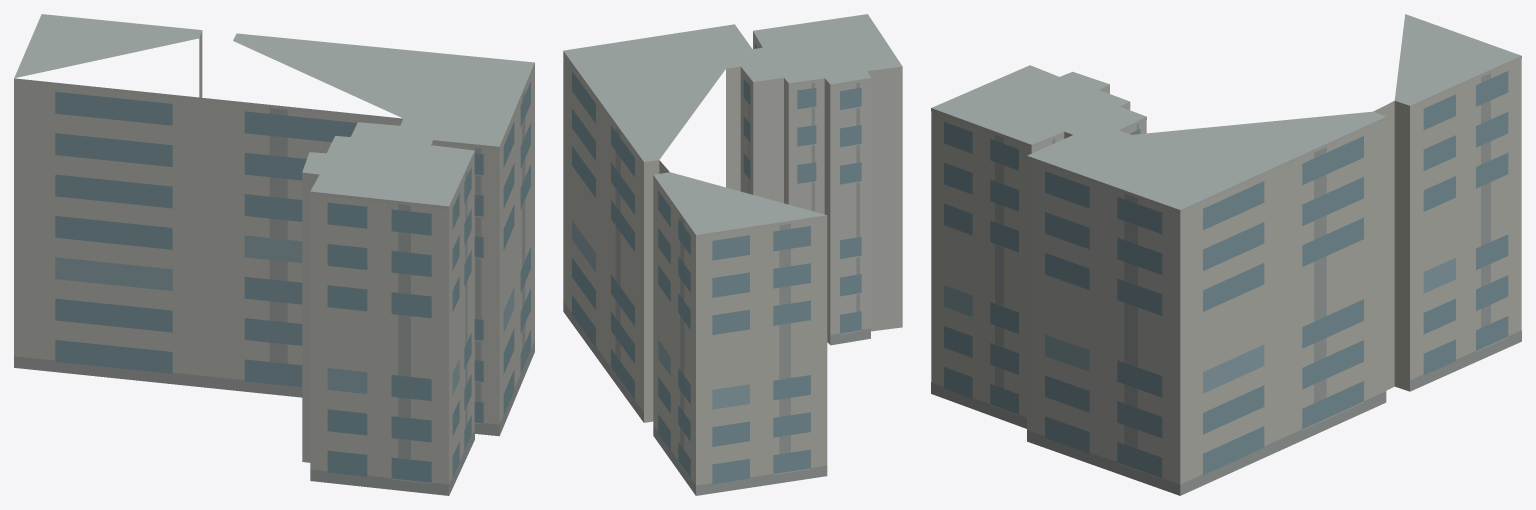
Rendered from survey-upis-32702959.glb.
3 renders of one model, left to right at view 1: azimuth 30°, elevation 25°; view 2: azimuth 150°, elevation 25°; view 3: azimuth 270°, elevation 25°, orthographic. The views are drawn at different scales.
Parts seen in each view (by area): view 1: survey-upis-32702959.tmp; view 2: survey-upis-32702959.tmp; view 3: survey-upis-32702959.tmp.
Part boxes in pixels (x1,y1,x2,y2): survey-upis-32702959.tmp: (14, 14, 534, 495); survey-upis-32702959.tmp: (563, 14, 902, 495); survey-upis-32702959.tmp: (931, 14, 1521, 495).
Size of the model in its own units: 30.46 by 20.7 by 38.77.
